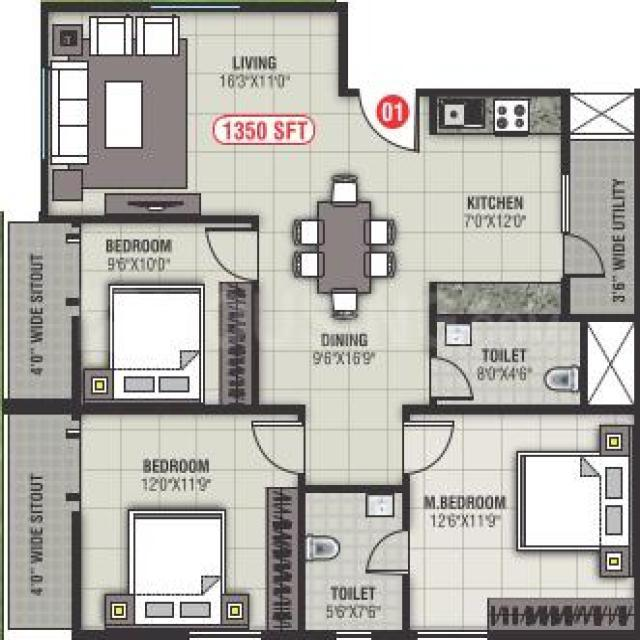Balcony-Sitout: (1, 401, 78, 640), (4, 220, 82, 409)
Bedroom: (77, 408, 305, 640), (76, 222, 260, 412)
Bedroom with Toilet: (301, 408, 636, 633)
Dining: (289, 168, 397, 326)
Enterance-Foyer: (344, 88, 426, 160)
Kitchen: (435, 89, 569, 321)
Living: (39, 0, 262, 222)
Toilet: (306, 492, 409, 629), (433, 315, 589, 405)
Utility: (563, 134, 638, 321)
